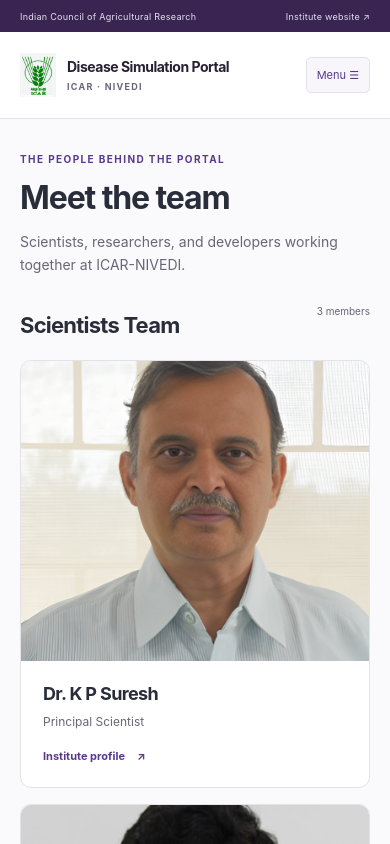
Test: React portal interface › moves focus out of the menu when its current route is selected
The width and height of the screenshot is (390, 844).
What coordinates should you click on to do the following:
click the button "Menu ☰"
I would click on:
 (338, 75)
Its box is [306,57,370,93].
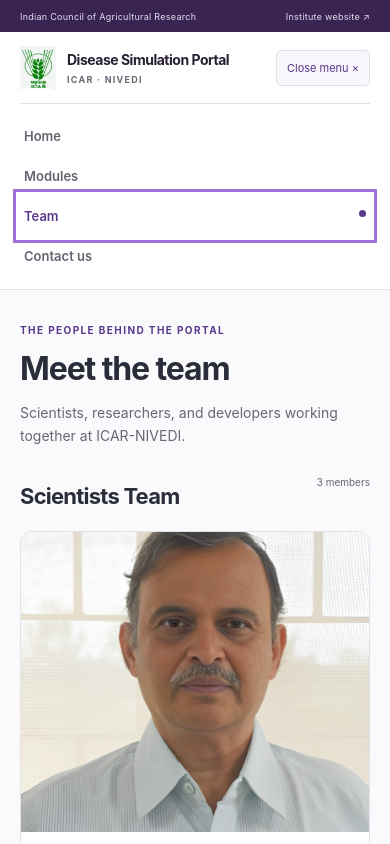
What coordinates should you click on to do the following:
click the link "Team"
I would click on:
 (41, 216)
Its box is [24,208,59,224].
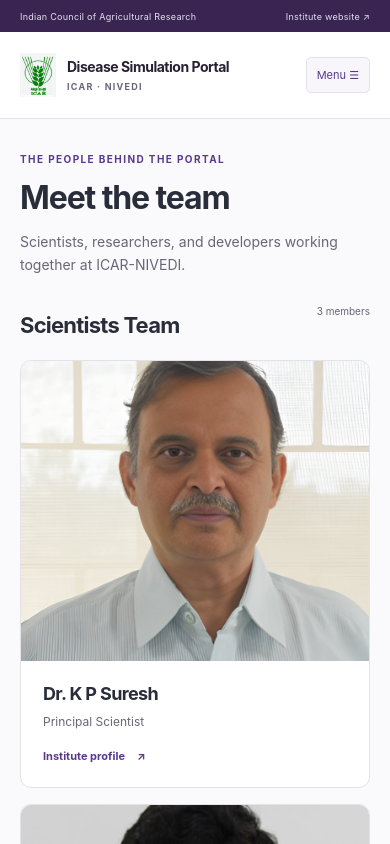
Now the button "Menu ☰" is collapsed, box [306,57,370,93]
